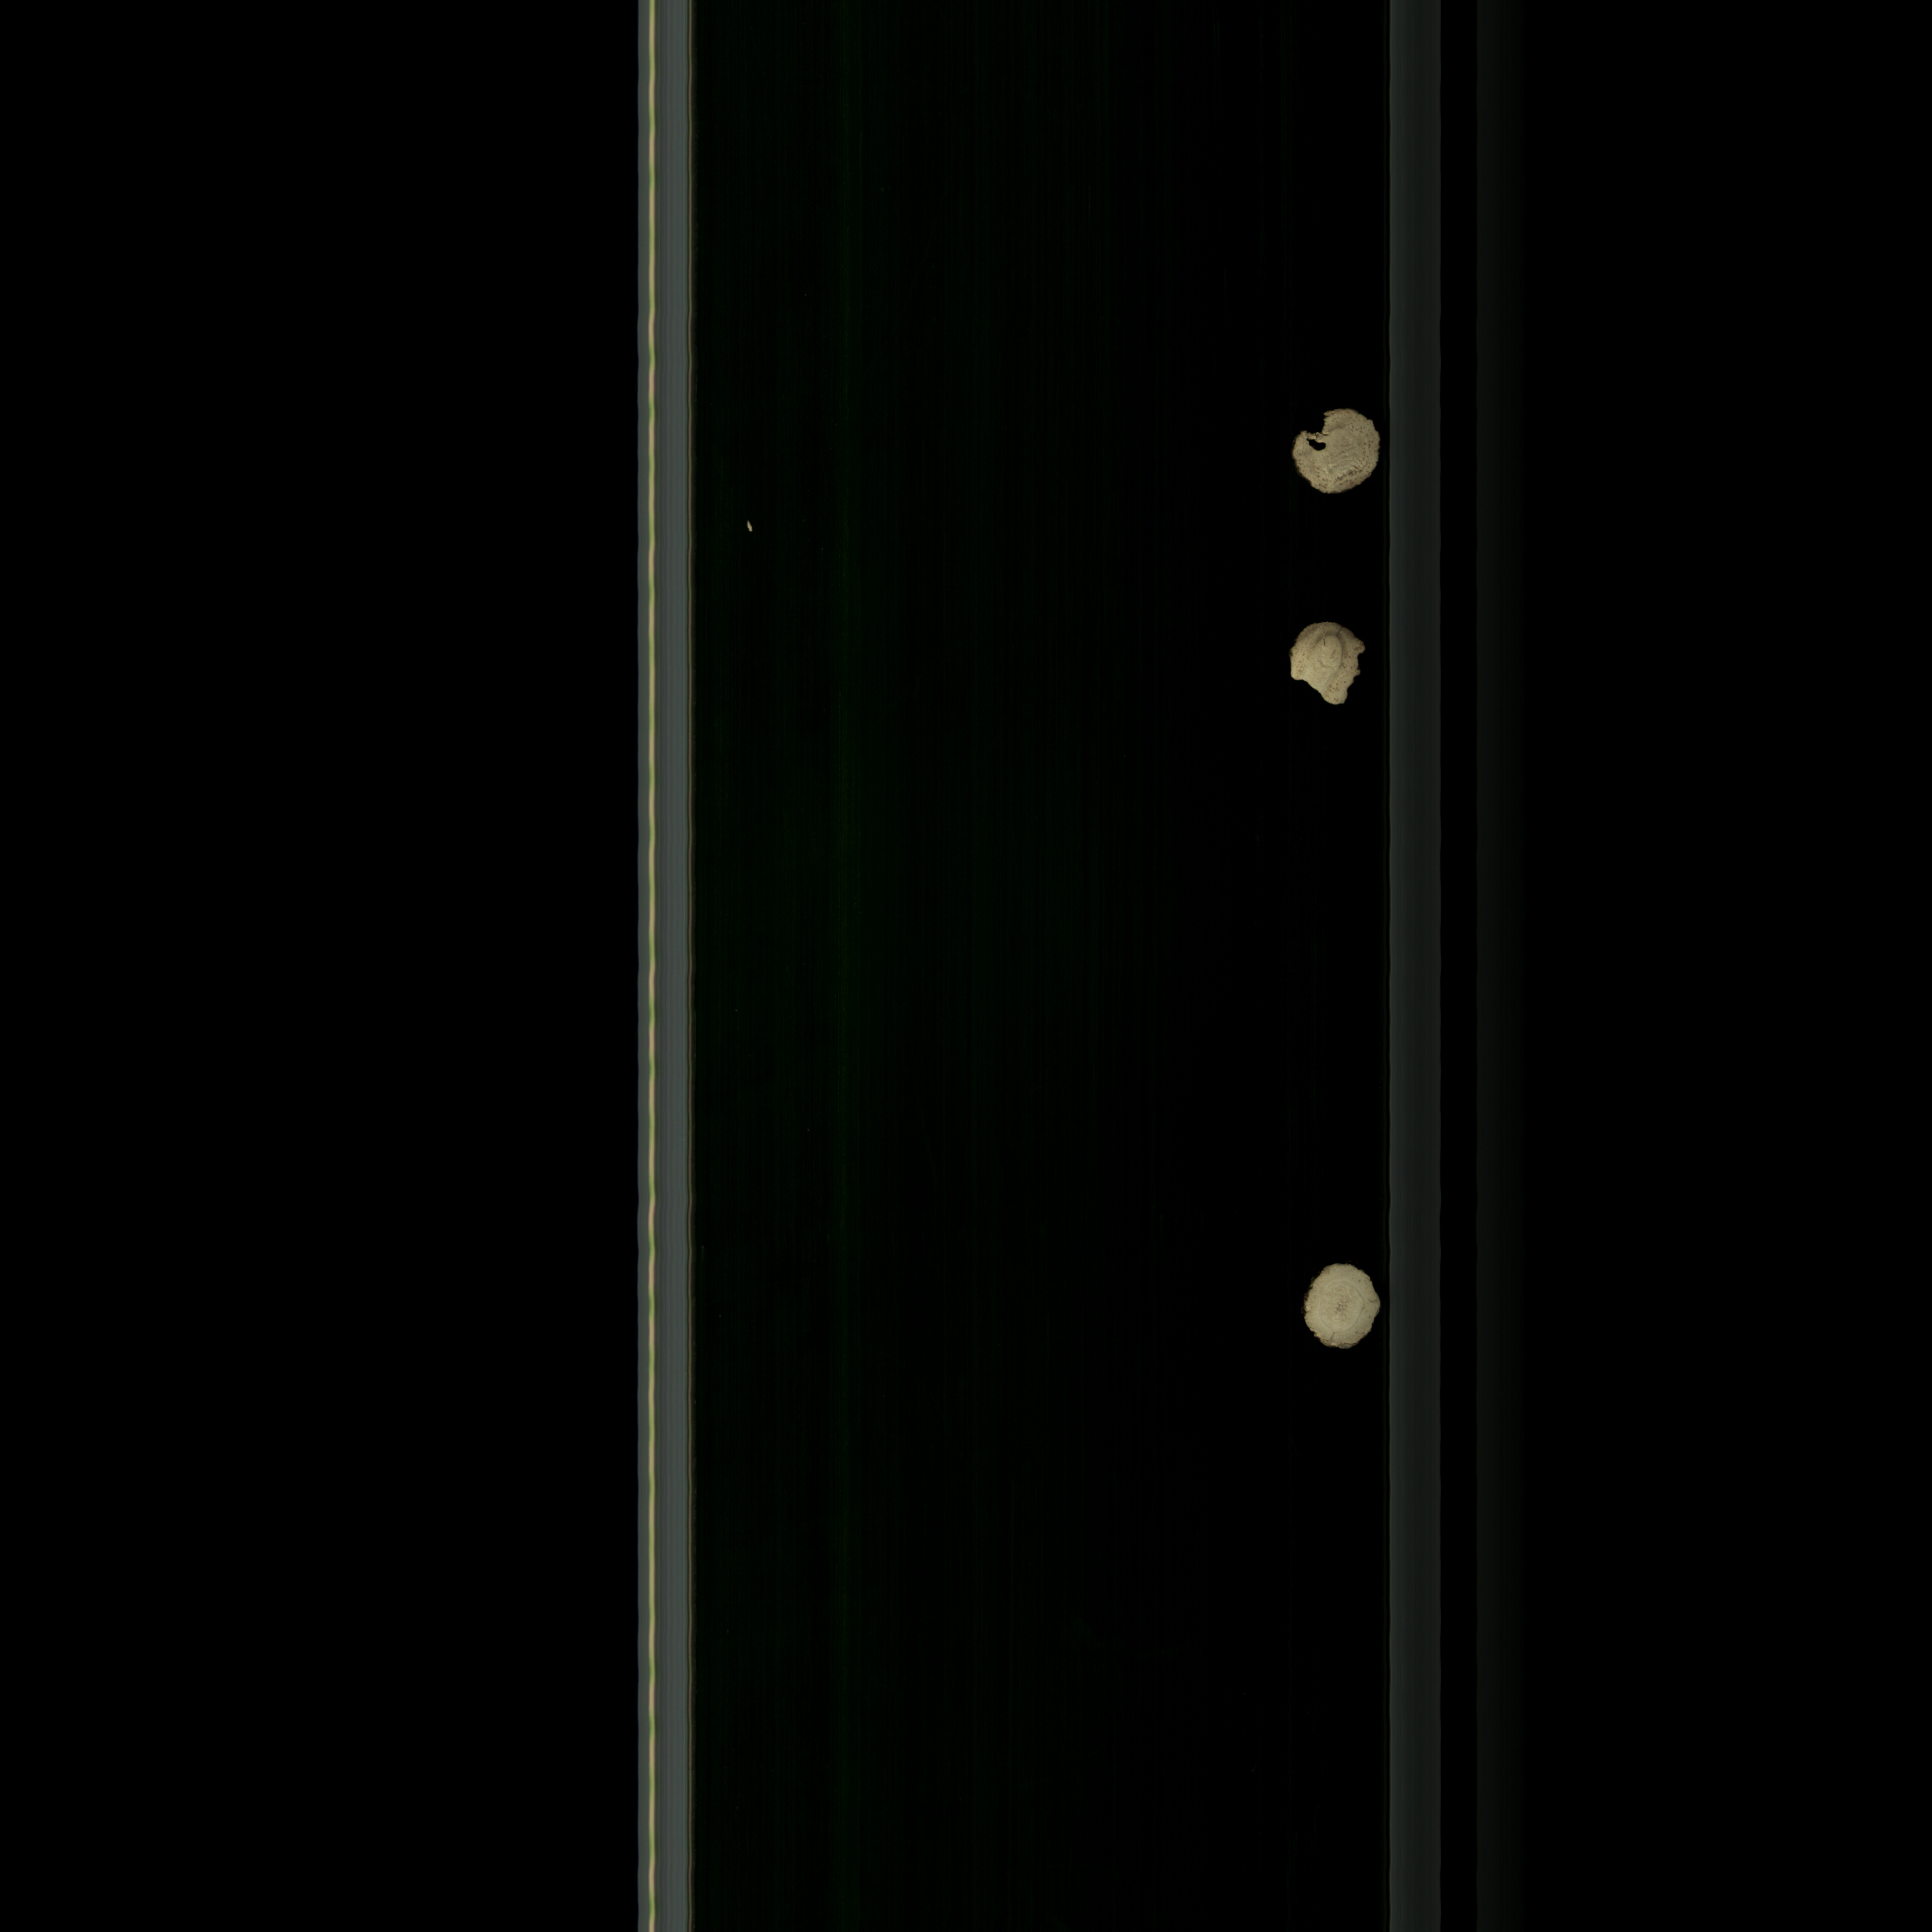debris: (1283, 403, 1391, 506), (1276, 619, 1369, 718)
dreg: (738, 518, 763, 538)
